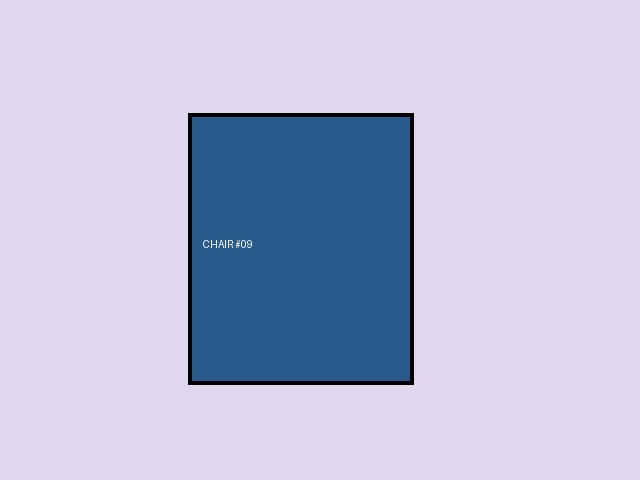chair: (188, 113, 413, 384)
